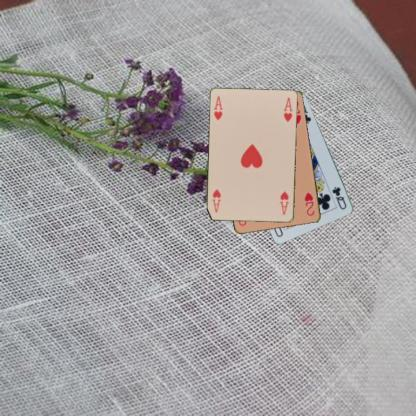2h: (302, 189, 316, 217)
Ah: (277, 189, 290, 216), (212, 94, 224, 122)
Qc: (330, 184, 348, 210)
